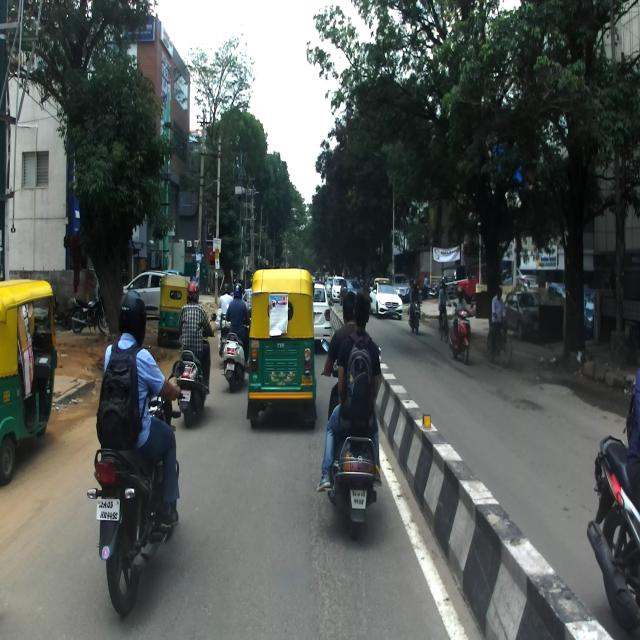auto ahead at: (0, 275, 59, 483), (250, 269, 314, 418)
motorcycle ahead at: (314, 424, 386, 536)
person ahead at: (89, 441, 175, 615)
